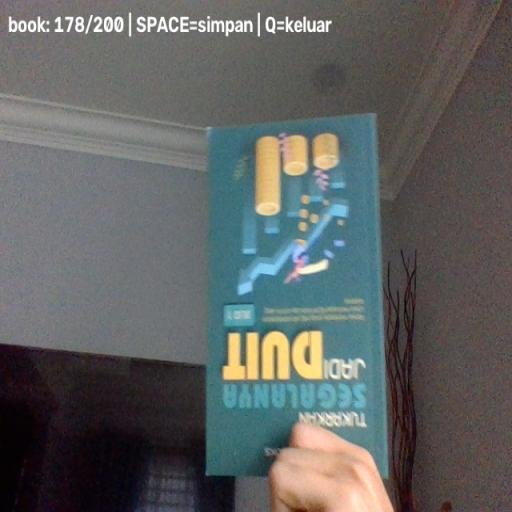Book: (206, 113, 390, 479)
